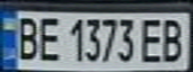1: (63, 15, 84, 62)
3: (115, 16, 139, 64), (81, 15, 103, 63)
7: (100, 16, 121, 63)
B: (9, 14, 42, 62), (157, 16, 190, 64)
E: (33, 14, 63, 62), (136, 16, 166, 64)
